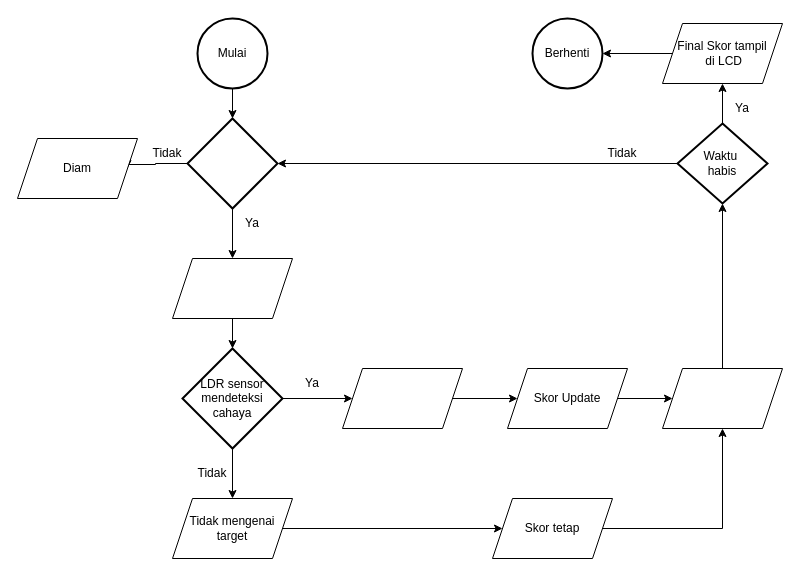
This 800x576 diagram has some shape labels left out. Each missing label, with the centre of its shape:
"Laser Aktif" goes at (x=232, y=288).
"Skor sementara tampil di LCD" goes at (x=722, y=398).
"Target Terkena" goes at (x=402, y=398).
"Tekan Push Button" goes at (x=232, y=163).
